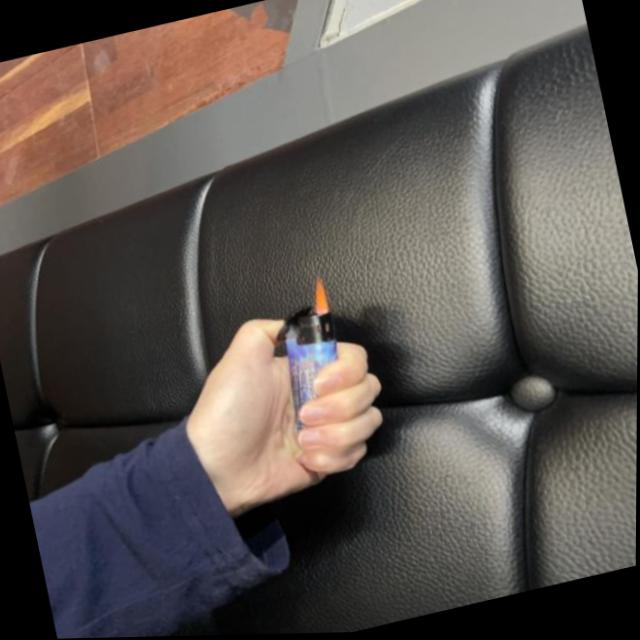Fire: (303, 276, 333, 321)
